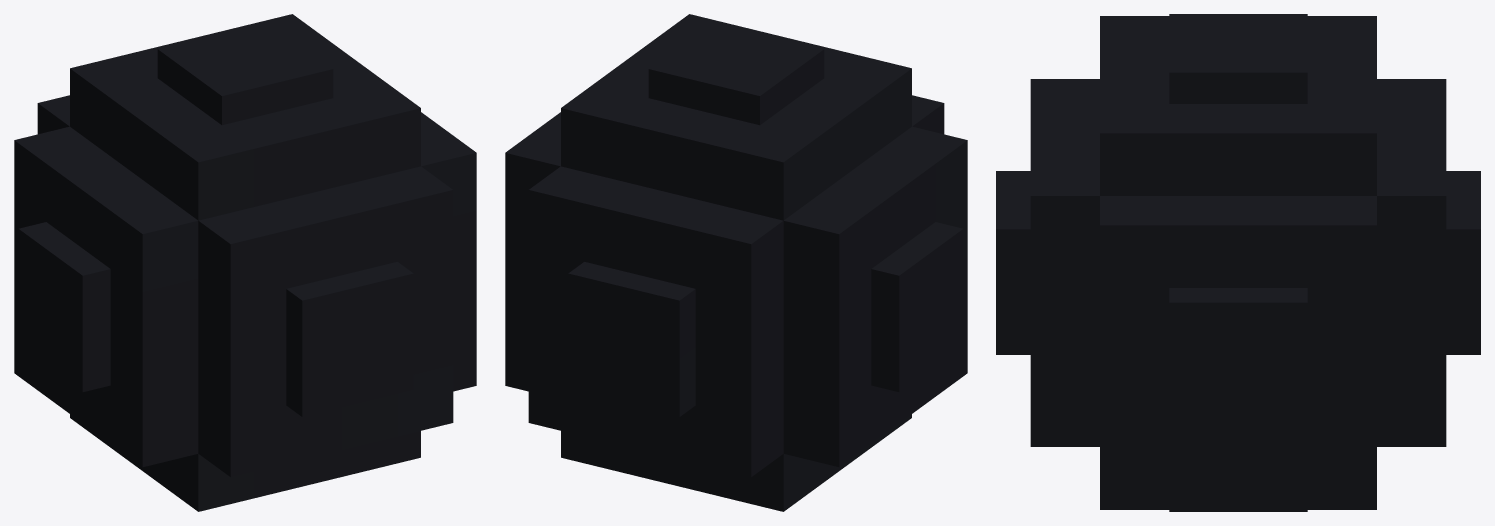
File: cannonball.obj
The picture shows the model from 3 angles, left to right: view 1: azimuth 30°, elevation 25°; view 2: azimuth 150°, elevation 25°; view 3: azimuth 270°, elevation 25°; orthographic projection. The views are drawn at different scales.
Parts seen in each view (by area): view 1: cube; view 2: cube; view 3: cube.
Boxes of the visible parts, <box> form: cube: <box>14,14,476,511</box>; cube: <box>505,14,967,511</box>; cube: <box>996,14,1480,511</box>.
Bounding box in the file's own units: 0.4375 × 0.4375 × 0.4375.
